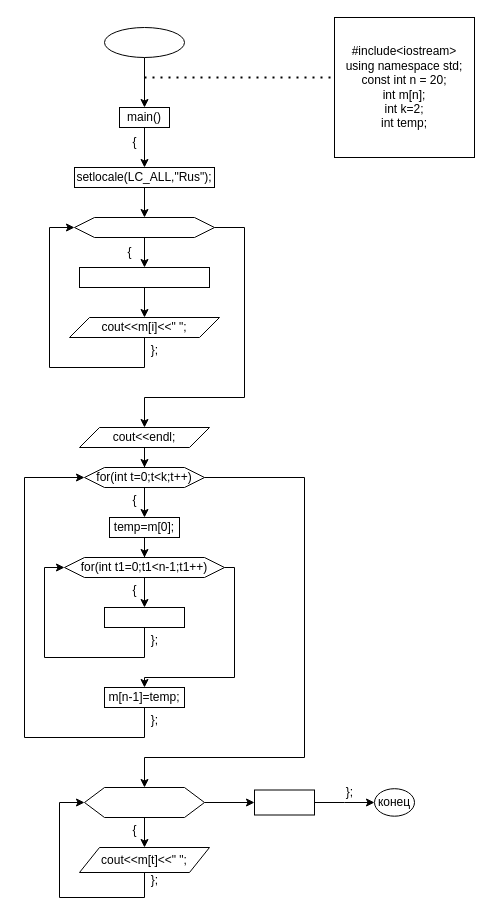
Some shapes in this 492 by 923 pixel diagram are drawn without their labels. Each missing label, with the centre of its shape:
for(int t=0;i<n;i++): (x=144, y=227)
for(int t=0;t<n;t++): (x=144, y=802)
m[i]=rand()%200-100;: (x=144, y=277)
m[t1]=m[t1+1];: (x=144, y=617)
return(0);: (x=284, y=802)
Начало: (x=144, y=42)
